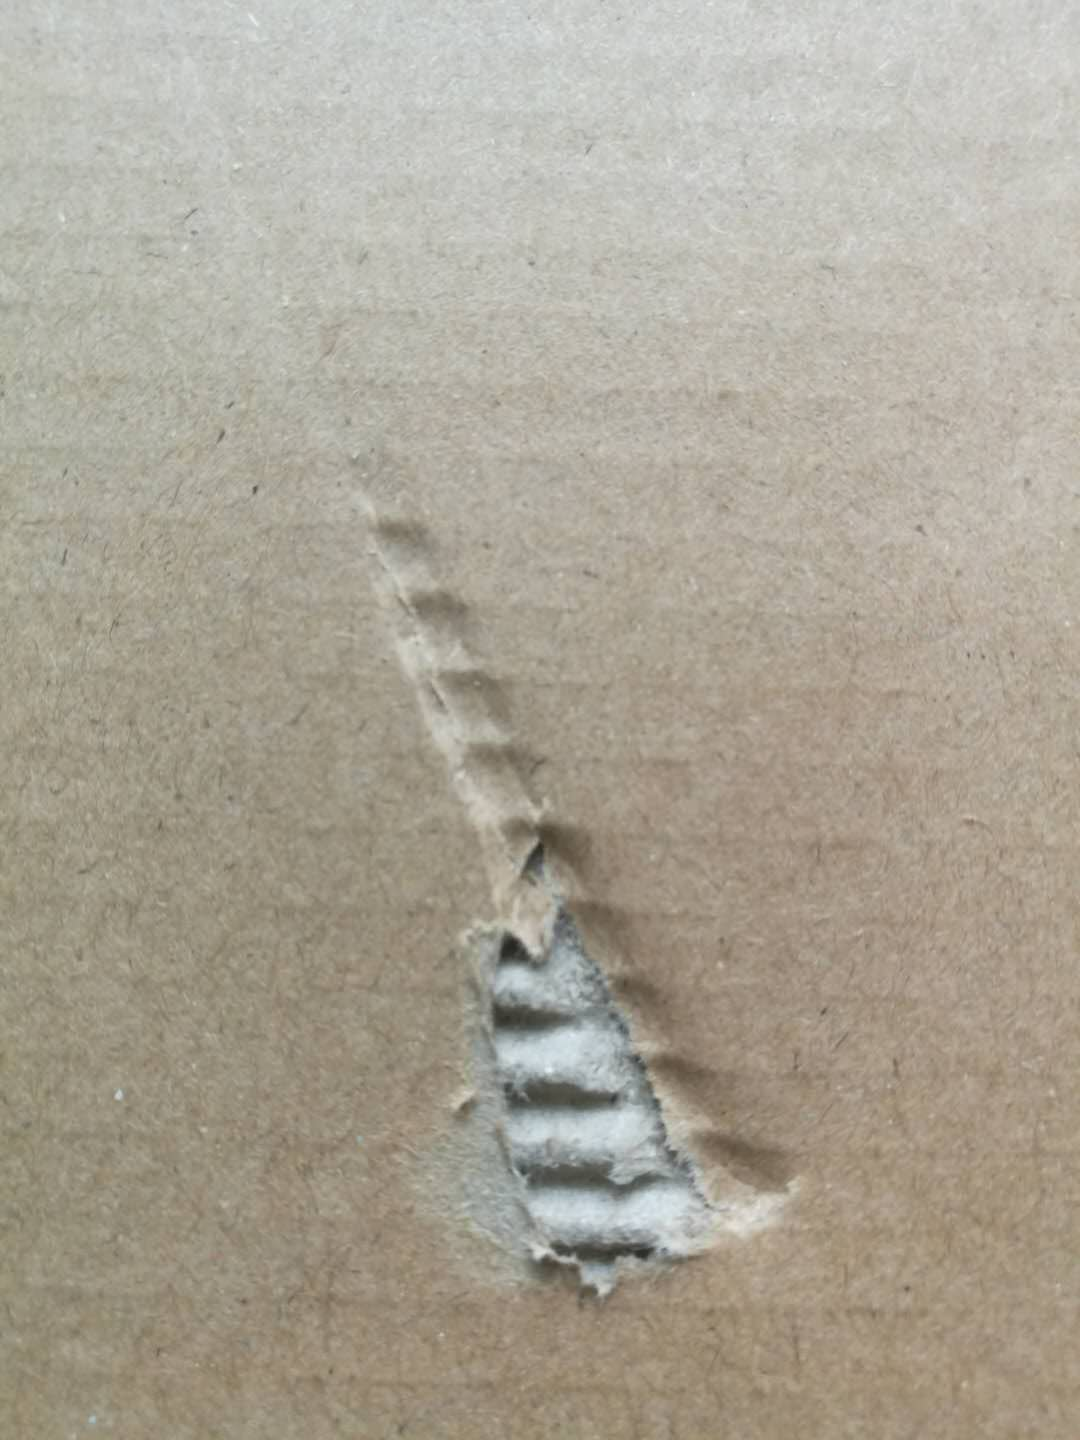defect: (295, 416, 863, 1345)
